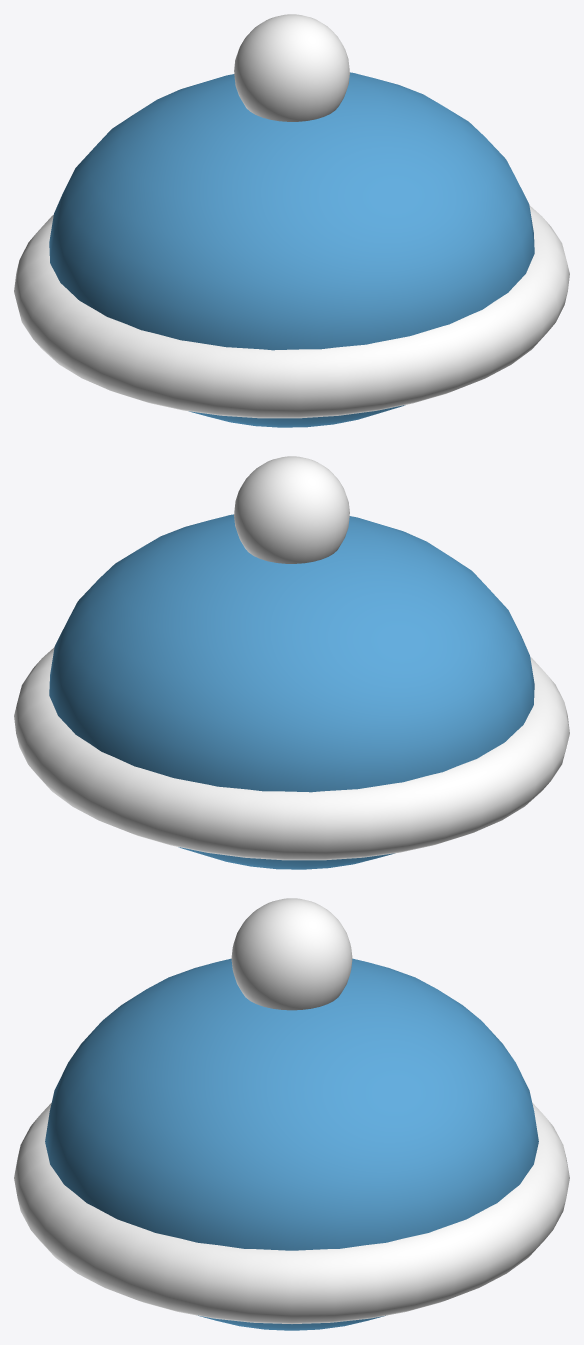
Rendered from acc_beanie.glb.
3 views of the same model, one above another, from view 1: azimuth 30°, elevation 25°; view 2: azimuth 150°, elevation 25°; view 3: azimuth 270°, elevation 25° (orthographic). The views are drawn at different scales.
Visible parts, largest first — view 1: Beanie_Dome, Beanie_Rim, Beanie_Pom; view 2: Beanie_Dome, Beanie_Rim, Beanie_Pom; view 3: Beanie_Dome, Beanie_Rim, Beanie_Pom.
Boxes of the visible parts, x1,y1,x2,y2 form: Beanie_Dome: (49, 72, 534, 427); Beanie_Rim: (14, 205, 569, 418); Beanie_Pom: (234, 14, 349, 121); Beanie_Dome: (49, 514, 534, 869); Beanie_Rim: (14, 647, 569, 860); Beanie_Pom: (234, 456, 349, 563); Beanie_Dome: (45, 958, 538, 1330); Beanie_Rim: (14, 1103, 569, 1323); Beanie_Pom: (231, 898, 352, 1010).
Bounding box in the file's own units: 0.4368 × 0.3225 × 0.4134.
